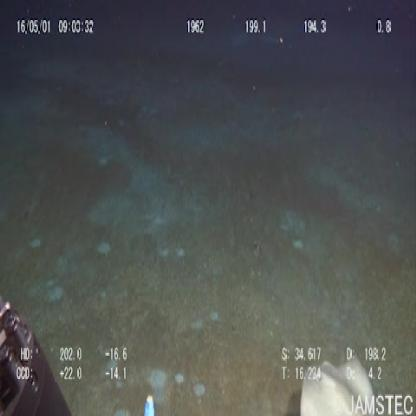Bio: (295, 348, 376, 416)
Rov: (1, 290, 74, 414)
